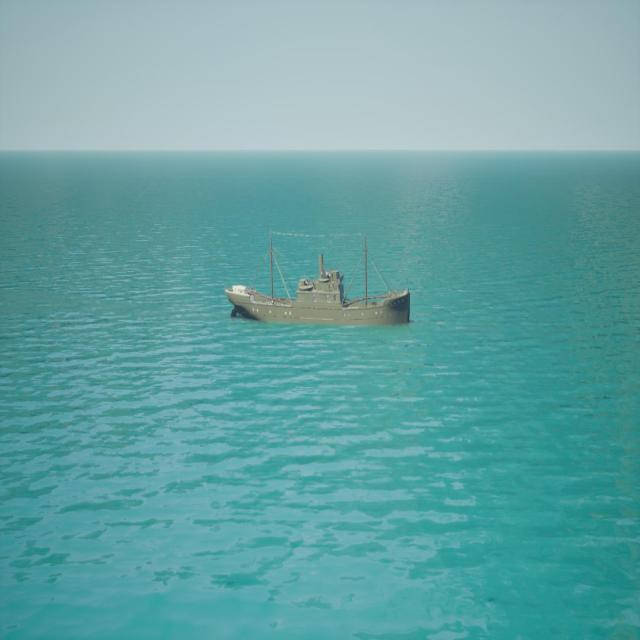fishing ship: (225, 232, 412, 328)
